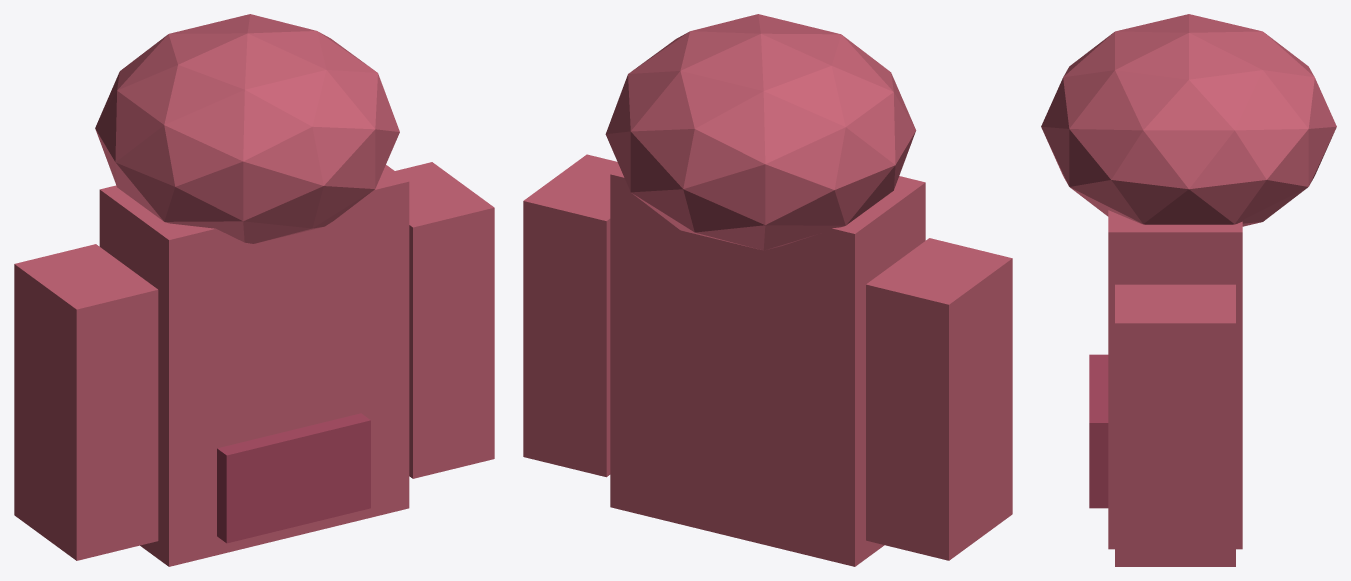
The model's file is sample-hoodie.glb.
The picture shows the model from 3 angles, left to right: view 1: azimuth 30°, elevation 25°; view 2: azimuth 150°, elevation 25°; view 3: azimuth 270°, elevation 25°; orthographic projection. The views are drawn at different scales.
Visible parts, largest first — view 1: world; view 2: world; view 3: world.
Part boxes in pixels (x1,y1,x2,y2): world: (14,14,494,566); world: (523,14,1012,566); world: (1041,14,1336,566).
Bounding box in the file's own units: 1.74 × 1.88 × 1.1.
